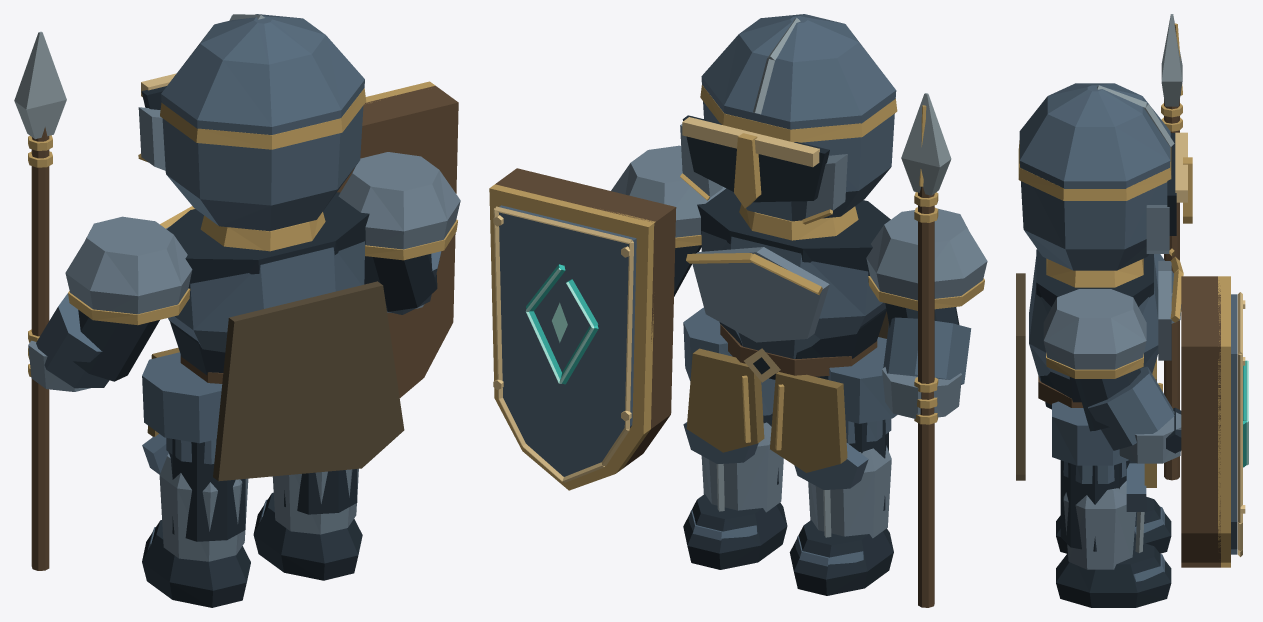
File: Shield.fbx
The picture shows the model from 3 angles, left to right: view 1: azimuth 30°, elevation 25°; view 2: azimuth 150°, elevation 25°; view 3: azimuth 270°, elevation 25°; orthographic projection. The views are drawn at different scales.
Parts seen in each view (by area): view 1: Body, Head, ArmR, ArmL, LegR, LegL; view 2: ArmL, Body, Head, ArmR, LegR, LegL; view 3: ArmL, Head, Body, LegL, ArmR, LegR.
Boxes of the visible parts, x1=… form: Body: x1=142, y1=192, x2=404, y2=481; Head: x1=138, y1=14, x2=366, y2=231; ArmR: x1=14, y1=31, x2=192, y2=570; ArmL: x1=337, y1=81, x2=460, y2=397; LegR: x1=142, y1=433, x2=250, y2=607; LegL: x1=253, y1=468, x2=362, y2=580; ArmL: x1=489, y1=145, x2=725, y2=490; Body: x1=683, y1=188, x2=897, y2=472; Head: x1=680, y1=14, x2=897, y2=224; ArmR: x1=866, y1=93, x2=987, y2=607; LegR: x1=789, y1=418, x2=893, y2=595; LegL: x1=683, y1=378, x2=787, y2=569; ArmL: x1=1043, y1=276, x2=1248, y2=567; Head: x1=1018, y1=83, x2=1192, y2=270; Body: x1=1016, y1=249, x2=1183, y2=487; LegL: x1=1056, y1=460, x2=1171, y2=607; ArmR: x1=1154, y1=14, x2=1182, y2=480; LegR: x1=1056, y1=460, x2=1171, y2=553.
Size of the model in its own units: 0.8352 by 1.01 by 0.439.
Materials: 1 (1 with a texture image).
